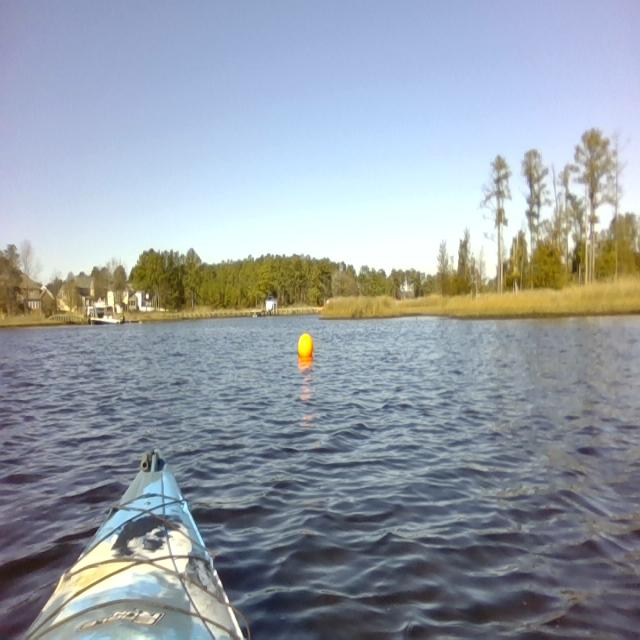Buoy: (294, 320, 318, 368)
